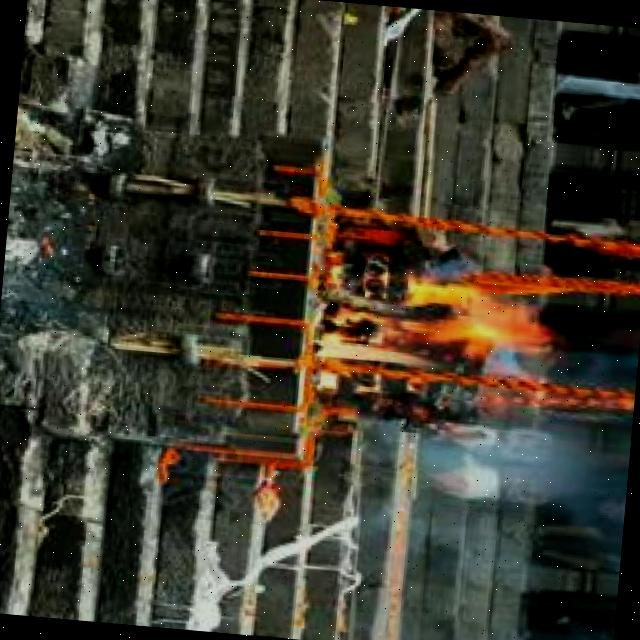fire: (317, 270, 563, 386)
